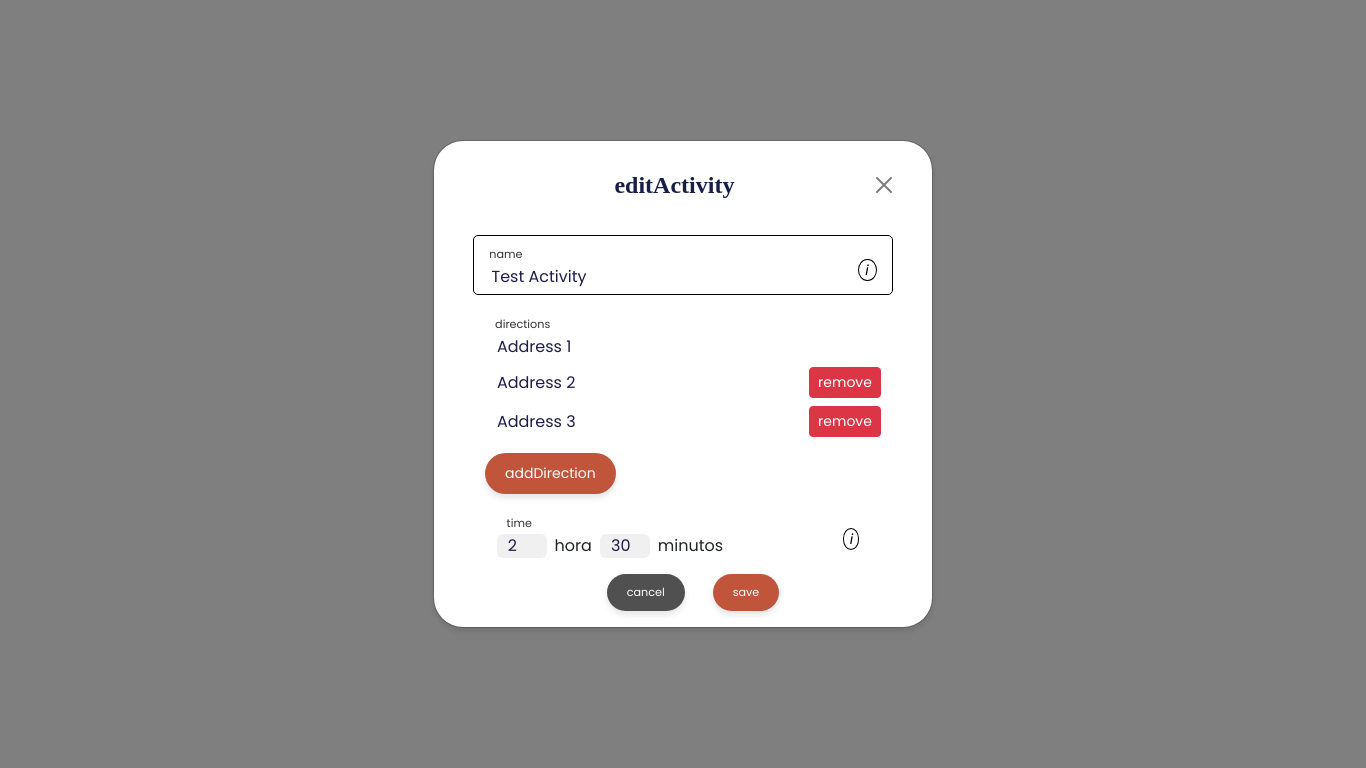
Test case: EditActivities Component › removes a direction (if more than one exists)
// Hacer clic en el segundo botón
Click the 1st button "remove".
click(845, 383)  # box top-left (809, 367), bottom-right (881, 398)
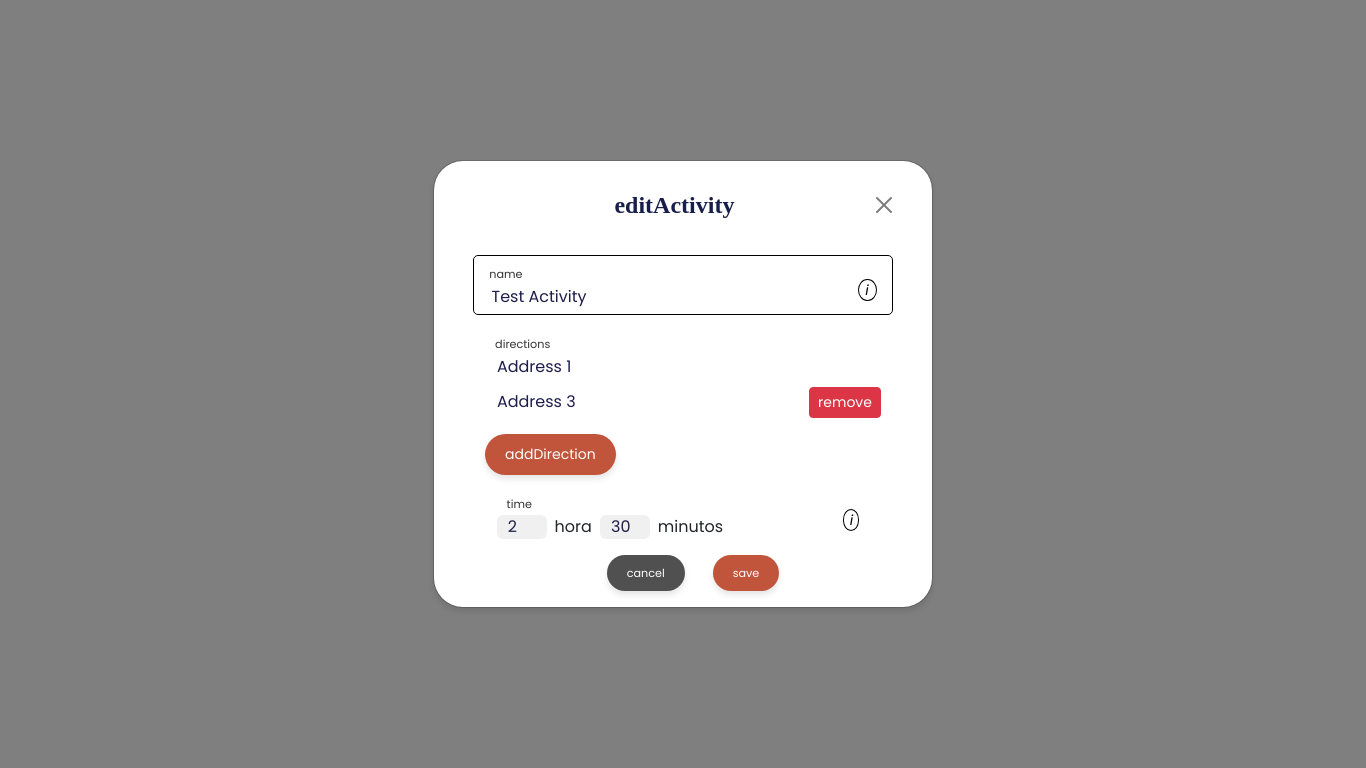
Result: the number of fields with placeholder "direction 1" is 2 at top-left (485, 355), bottom-right (881, 379); top-left (485, 390), bottom-right (801, 414)
